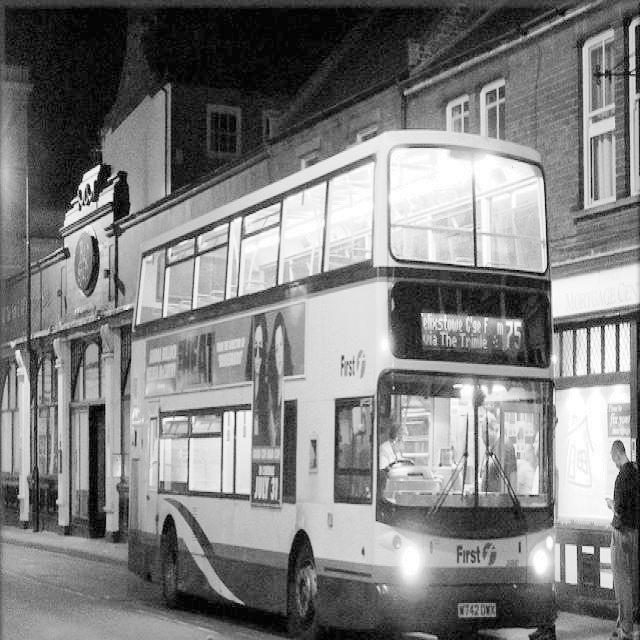Bus: (110, 161, 568, 626)
